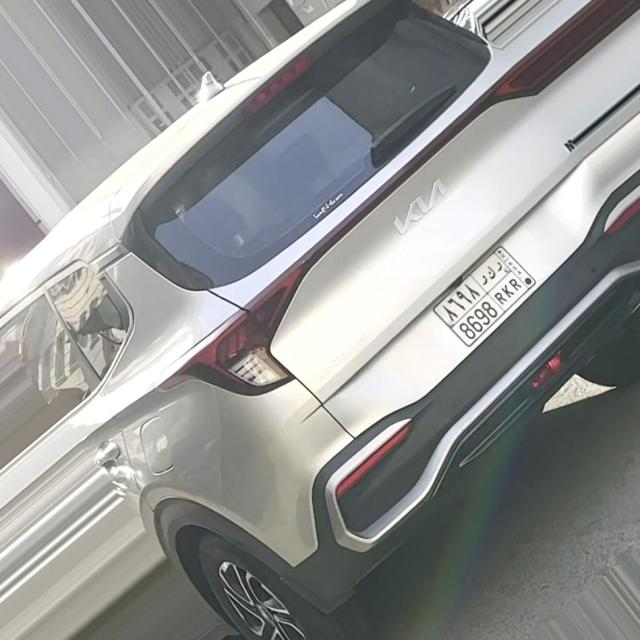Car-plate: (427, 234, 552, 357)
